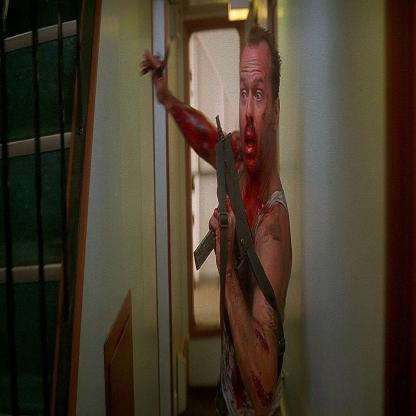gun: (190, 203, 262, 299)
